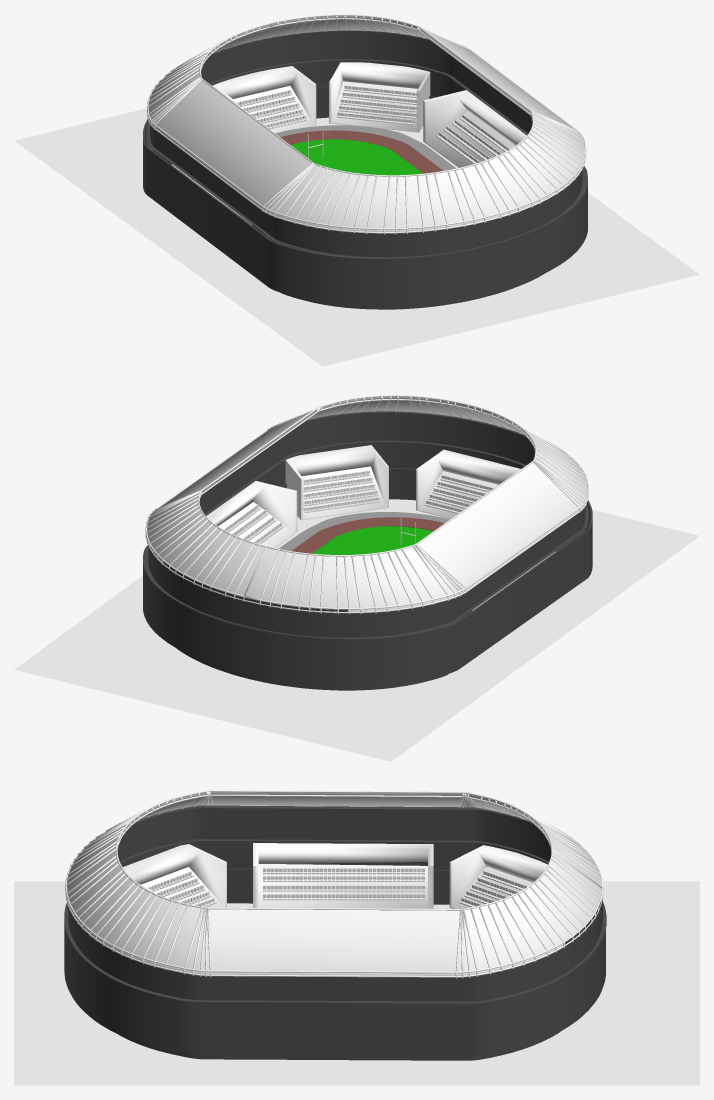
The model's file is Stadium.fbx.
3 views of the same model, one above another, from view 1: azimuth 30°, elevation 25°; view 2: azimuth 150°, elevation 25°; view 3: azimuth 270°, elevation 25° (orthographic). The views are drawn at different scales.
Visible parts, largest first — view 1: Null; view 2: Null; view 3: Null.
Part boxes in pixels (x1,y1,x2,y2): Null: (14,14,699,366); Null: (14,395,699,761); Null: (14,790,699,1085).
Bounding box in the file's own units: 27404 × 8349 × 38848.
